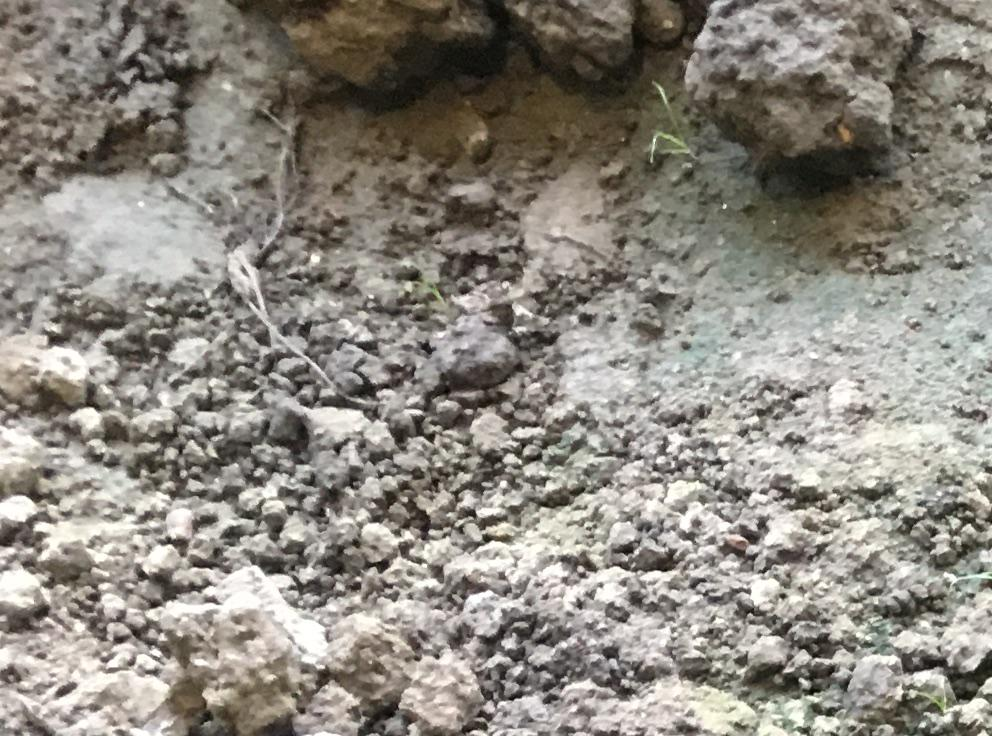block: (689, 1, 918, 165)
